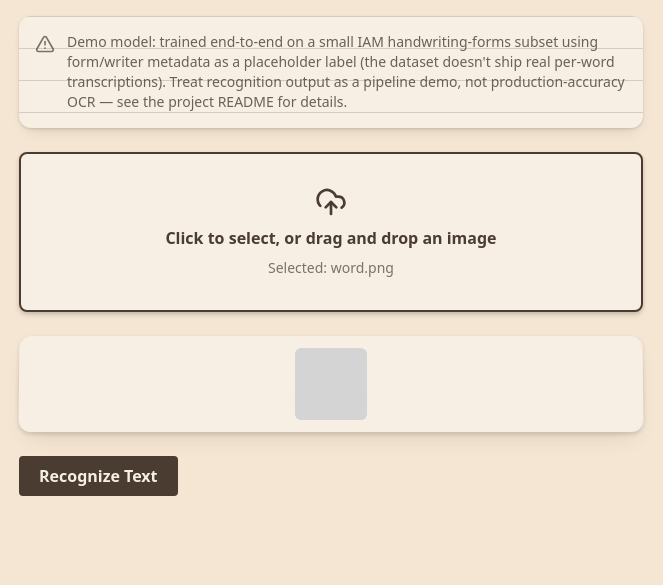
Scenario: ImageProcessor › surfaces a friendly error if recognition throws
The image size is (663, 585).
Earlier steps of the test are not shown.
What coordinates should you click on to do the following:
click the button "Recognize Text"
I would click on:
 (98, 476)
Its box is [19, 456, 178, 496].
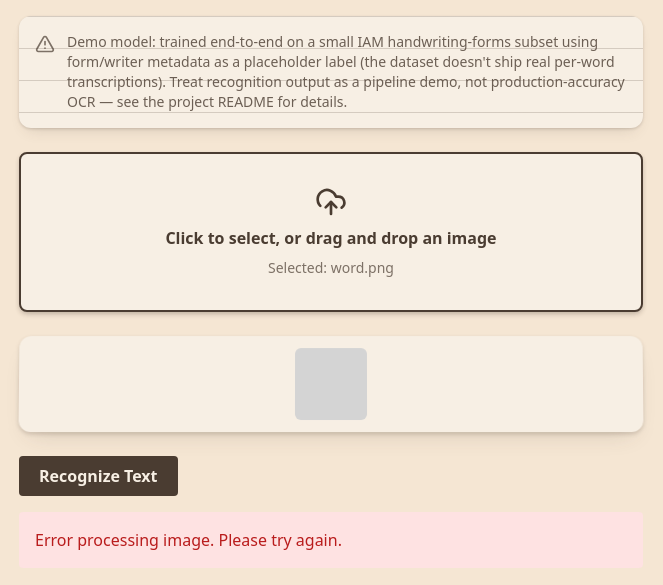
expect the text "Error processing image. Please try again." is shown: met, box [19, 512, 643, 568]
